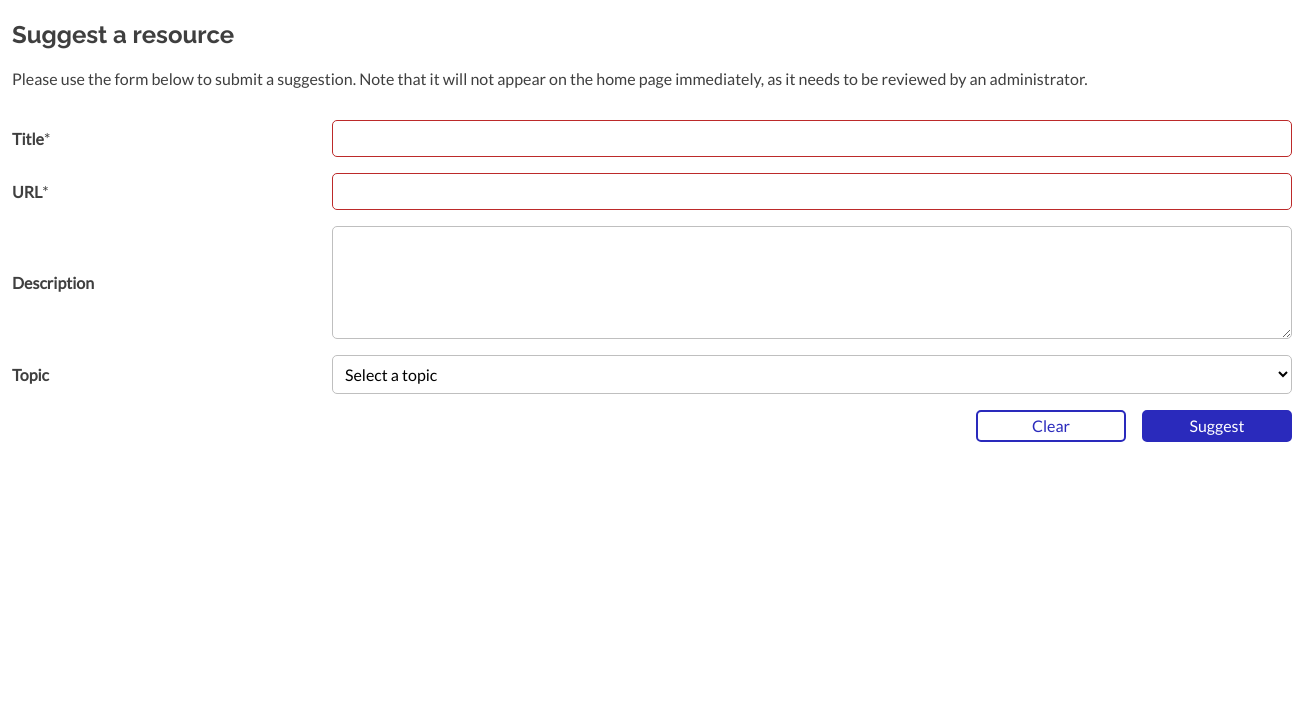
Test case: Suggest › allows the user to include a topic
Type "Title" into the field labelled "Title*".
click(812, 138); type("Title")  # box [332,120,1292,157]
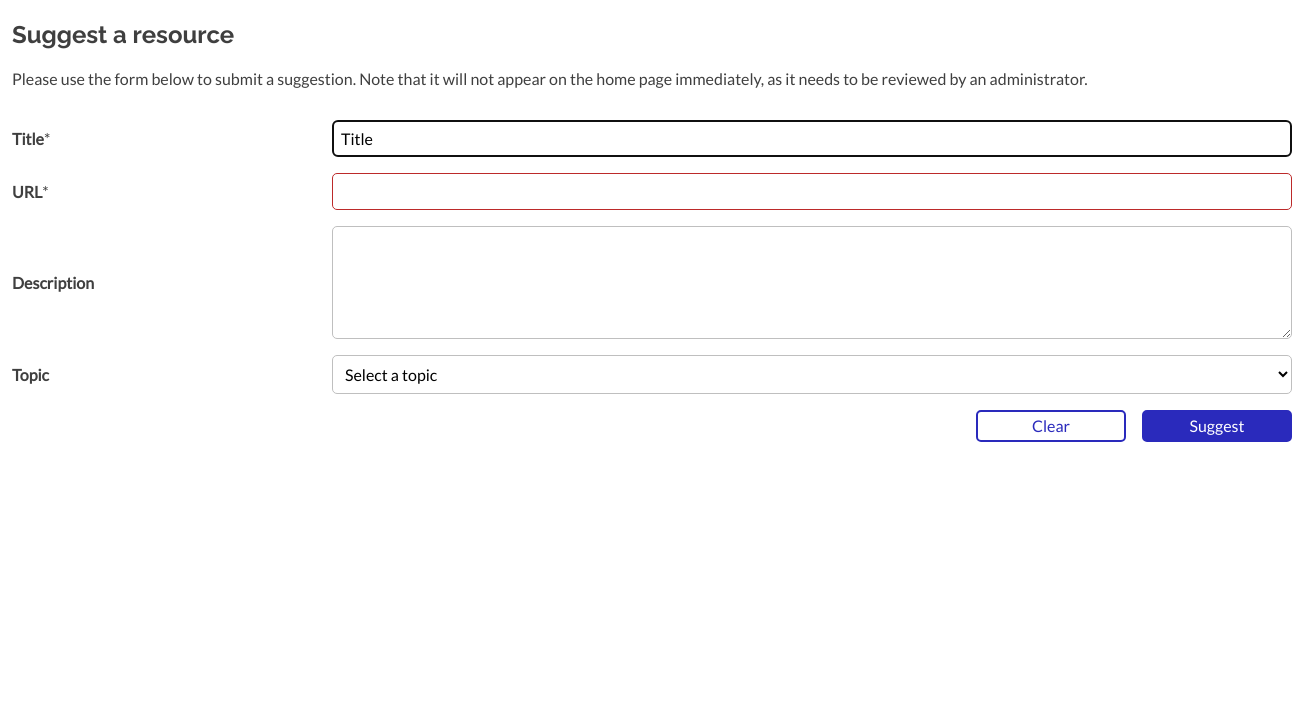
Type "https://example.com" into the field labelled "URL*".
click(812, 191); type("https://example.com")  # box [332,173,1292,210]
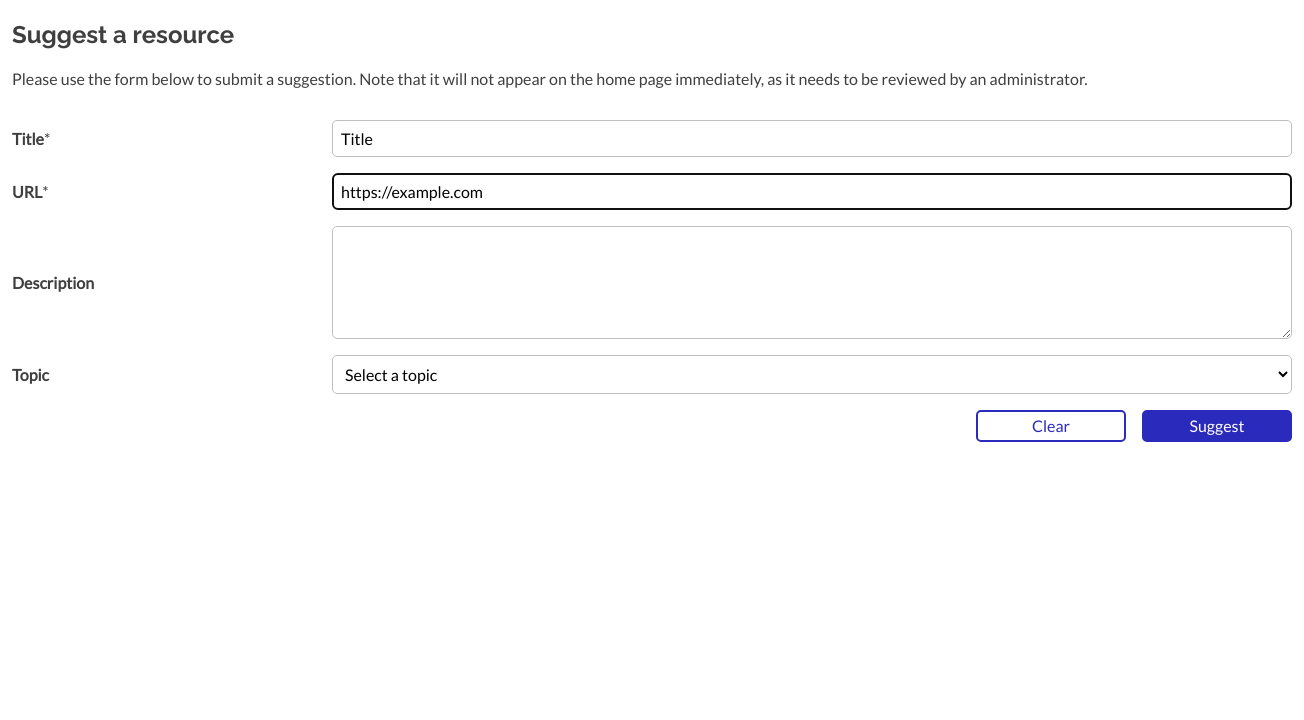
Select "Professional Development" in the dropdown labelled "Topic" at (812, 374), box [332,355,1292,394]
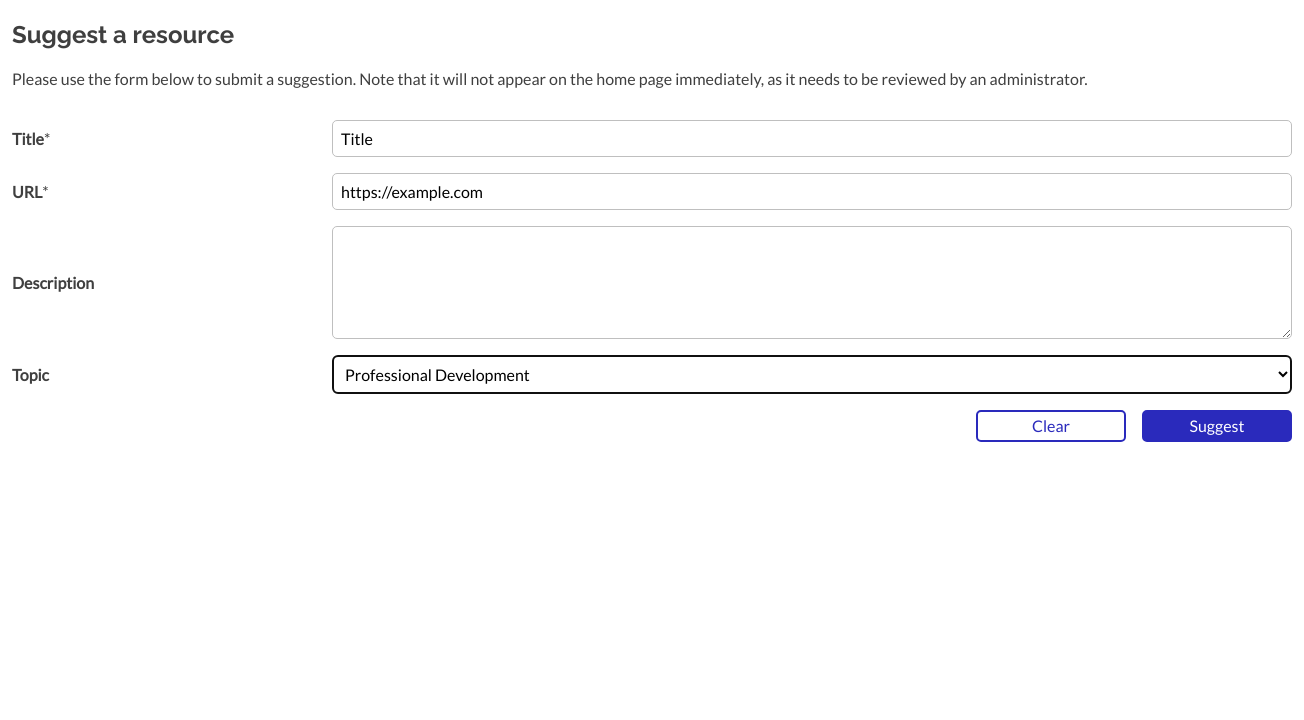
Click the button "Suggest".
click(1217, 426)  # box [1142,410,1292,442]
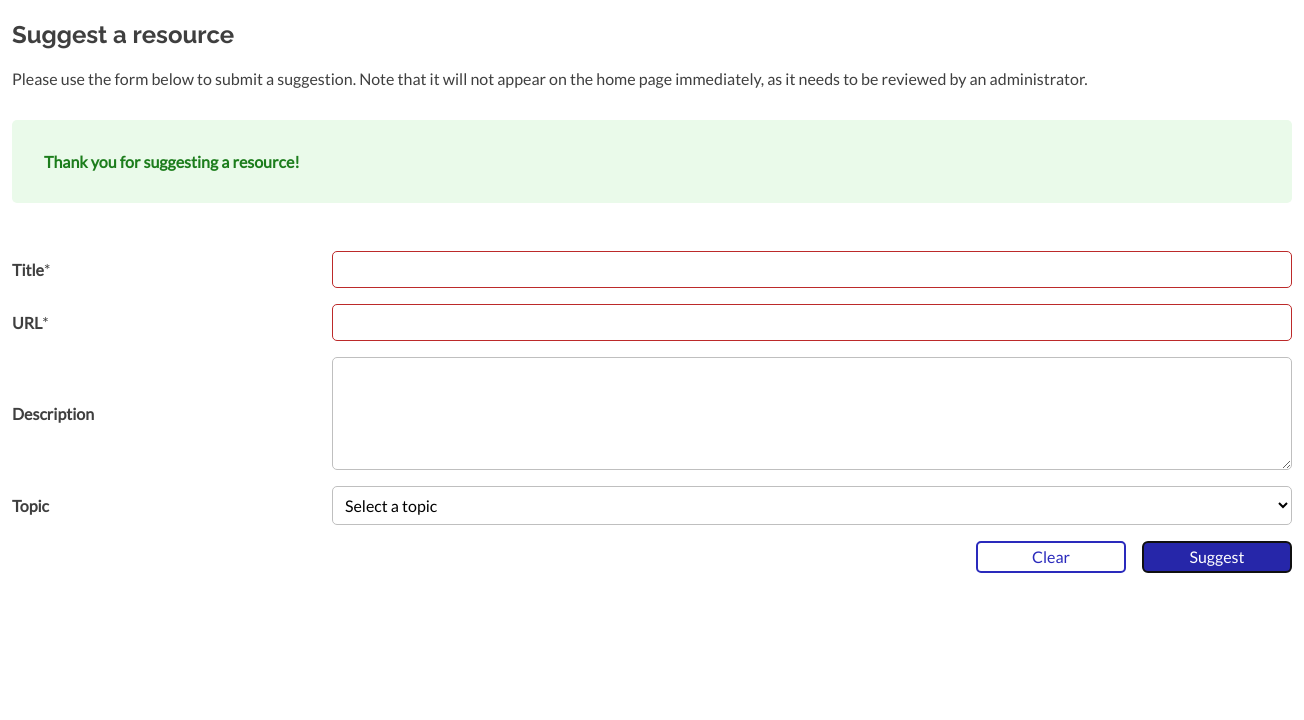
Check: the text "Thank you for suggesting a resource!" is shown, box [12,120,1292,203]
